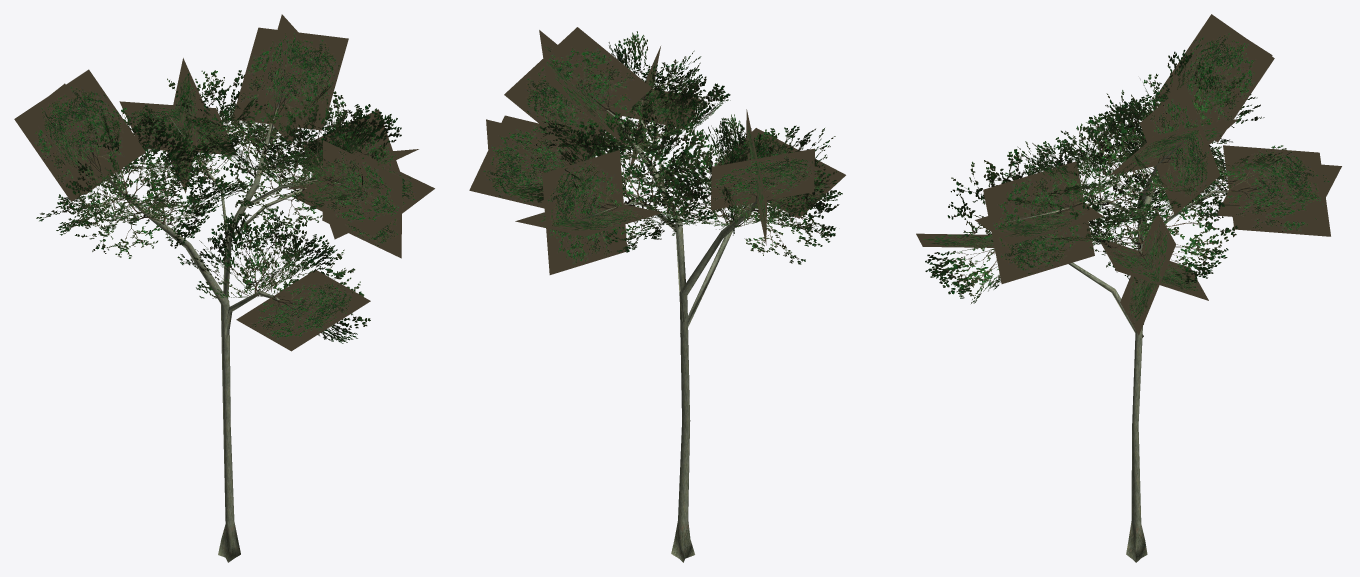
File: nboo_decd_cambylictustree_l1.fbx
3 views of the same model, side by side, from view 1: azimuth 30°, elevation 25°; view 2: azimuth 150°, elevation 25°; view 3: azimuth 270°, elevation 25° (orthographic). The views are drawn at different scales.
Visible parts, largest first — view 1: mesh_node; view 2: mesh_node; view 3: mesh_node.
Part boxes in pixels (x1,y1,x2,y2): mesh_node: [14, 14, 434, 562]; mesh_node: [469, 27, 845, 562]; mesh_node: [916, 14, 1341, 562].
Size of the model in its own units: 41.38 by 54.96 by 43.41.
